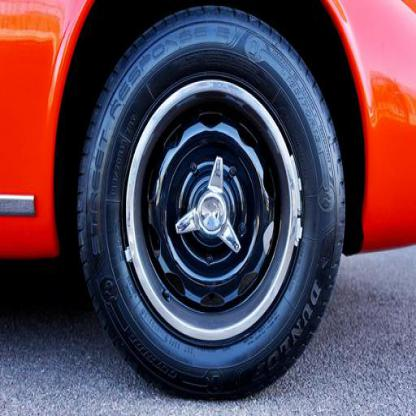Tire: (76, 5, 346, 401)
